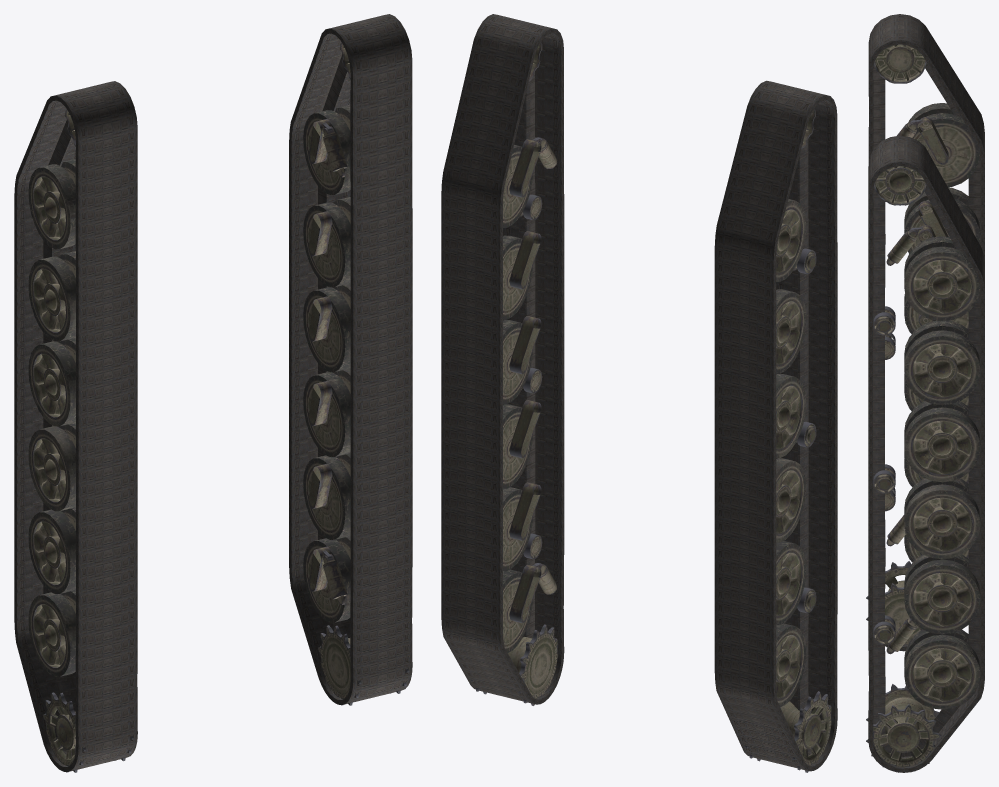
Rendered from Chassis.glb.
3 views of the same model, side by side, from view 1: azimuth 30°, elevation 25°; view 2: azimuth 150°, elevation 25°; view 3: azimuth 270°, elevation 25° (orthographic). The views are drawn at different scales.
Visible parts, largest first — view 1: set_0_group_0, set_1_group_0, set_3_group_0, set_2_group_0; view 2: set_1_group_0, set_0_group_0, set_3_group_0, set_2_group_0; view 3: set_3_group_0, set_0_group_0, set_2_group_0, set_1_group_0.
Boxes of the visible parts, x1,y1,x2,y2 form: set_0_group_0: [289, 14, 412, 704]; set_1_group_0: [14, 81, 137, 771]; set_3_group_0: [303, 42, 409, 705]; set_2_group_0: [28, 109, 134, 772]; set_1_group_0: [714, 80, 837, 771]; set_0_group_0: [441, 14, 564, 704]; set_3_group_0: [471, 42, 557, 705]; set_2_group_0: [744, 109, 831, 772]; set_3_group_0: [866, 166, 980, 772]; set_0_group_0: [868, 135, 984, 772]; set_2_group_0: [866, 44, 980, 645]; set_1_group_0: [868, 14, 984, 651].
Bounding box in the file's own units: 3.25 × 6.28 × 1.1.
4 materials, 4 textured.
